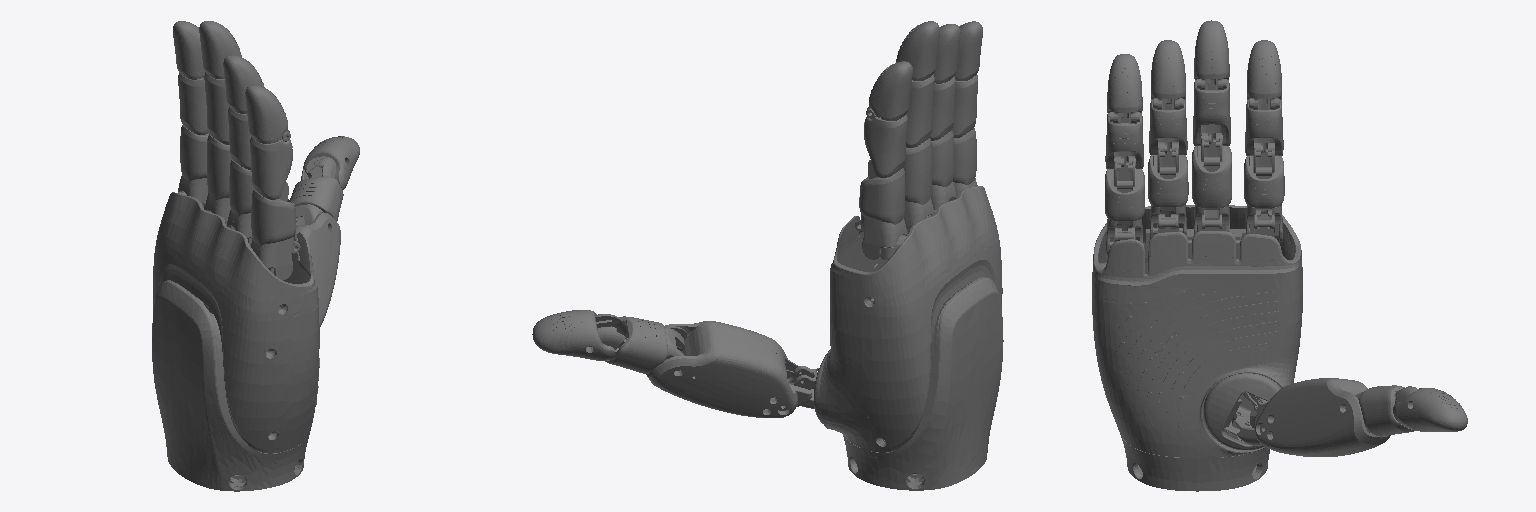
The robot description file, URDF, robot "omnihand":
<?xml version="1.0" ?>
<!-- =================================================================================== -->
<!-- |    This document was autogenerated by xacro from xacro/omnihand_pro_right.xacro | -->
<!-- |    EDITING THIS FILE BY HAND IS NOT RECOMMENDED                                 | -->
<!-- =================================================================================== -->
<robot name="omnihand">
  <material name="black">
    <color rgba="0.5 0.5 0.5 1.0"/>
  </material>
  <link name="hand_base_link">
    <visual>
      <origin rpy="0 0 0" xyz="0 0 0"/>
      <geometry>
        <mesh filename="meshes/r_hand_base_link.STL"/>
      </geometry>
      <material name="black"/>
    </visual>
    <inertial>
      <origin rpy="0 0 0" xyz="-0.00425607657857528 -0.000984907743219104 0.0569954669646572"/>
      <mass value="0.831592534870634"/>
      <inertia ixx="0.00130295787397277" ixy="-1.00395530019145e-06" ixz="-2.62221439754335e-05" iyy="0.000759187526142393" iyz="2.944807671301e-05" izz="0.000650439149629946"/>
    </inertial>
    <collision>
      <origin rpy="0 0 0" xyz="0 0 0.005"/>
      <geometry>
        <cylinder length="0.01" radius="0.032"/>
      </geometry>
    </collision>
    <collision>
      <origin rpy="0 0 0" xyz="0 0 0.057"/>
      <geometry>
        <box size="0.05 0.09 0.09"/>
      </geometry>
    </collision>
  </link>
  <!-- thumb  -->
  <link name="thumb_metacarpals_base1">
    <visual>
      <origin rpy="0 0 0" xyz="0 0 0"/>
      <geometry>
        <mesh filename="meshes/r_thumb_metacarpals_base1.STL"/>
      </geometry>
      <material name="black"/>
    </visual>
    <inertial>
      <origin rpy="0 0 0" xyz="0.0238985392698507 8.492755494241e-05 0.00143588019194235"/>
      <mass value="0.0487218724123021"/>
      <inertia ixx="1.16014813613108e-05" ixy="-1.23718071545455e-07" ixz="-3.36389573955908e-07" iyy="6.59632610273689e-06" iyz="-2.95789245057348e-07" izz="6.64077304903063e-06"/>
    </inertial>
  </link>
  <joint name="thumb_roll_joint" type="revolute">
    <origin rpy="-2.0246 0 0" xyz="-0.00148 0.022278 0.04025"/>
    <parent link="hand_base_link"/>
    <child link="thumb_metacarpals_base1"/>
    <axis xyz="1 0 0"/>
    <limit effort="0.134" lower="0" upper="0.66" velocity="2.38"/>
  </joint>
  <link name="thumb_metacarpals_base2">
    <visual>
      <origin rpy="0 0 0" xyz="0 0 0"/>
      <geometry>
        <mesh filename="meshes/r_thumb_metacarpals_base2.STL"/>
      </geometry>
      <material name="black"/>
    </visual>
    <inertial>
      <origin rpy="0 0 0" xyz="0.00144112186551029 -0.00076971553695547 0.0110530851904386"/>
      <mass value="0.00527730022012764"/>
      <inertia ixx="5.13938107714071e-07" ixy="2.10724699229959e-09" ixz="1.0099134807133e-08" iyy="3.23678037229255e-07" iyz="-6.91586588373309e-08" izz="2.43364847603047e-07"/>
    </inertial>
    <collision>
      <origin rpy="0 0 0.9" xyz="0 0 0"/>
      <geometry>
        <box size="0.035 0.006 0.02"/>
      </geometry>
    </collision>
  </link>
  <joint name="thumb_abad_joint" type="revolute">
    <origin rpy="0 0.95993 0" xyz="0.029071 0 0.0033014"/>
    <parent link="thumb_metacarpals_base1"/>
    <child link="thumb_metacarpals_base2"/>
    <axis xyz="0 -1 0"/>
    <limit effort="0.317" lower="-1.22" upper="0" velocity="2.33"/>
  </joint>
  <link name="thumb_metacarpals">
    <visual>
      <origin rpy="0 0 0" xyz="0 0 0"/>
      <geometry>
        <mesh filename="meshes/r_thumb_metacarpals.STL"/>
      </geometry>
      <material name="black"/>
    </visual>
    <inertial>
      <origin rpy="0 0 0" xyz="0.00248919792890584 0.000126945293118824 0.0270125022282254"/>
      <mass value="0.0238744814807847"/>
      <inertia ixx="9.14065262802198e-06" ixy="1.29455343848178e-08" ixz="1.28925259059347e-07" iyy="1.13640026182741e-05" iyz="-1.59529488365259e-08" izz="2.86247043401986e-06"/>
    </inertial>
    <collision>
      <origin rpy="0 1.57 0" xyz="0.005 0 0.03"/>
      <geometry>
        <box size="0.064 0.023 0.03"/>
      </geometry>
    </collision>
  </link>
  <joint name="thumb_mcp_joint" type="revolute">
    <origin rpy="0 0.66452 -1.5708" xyz="0.0016774 -0.0068611 0.022935"/>
    <parent link="thumb_metacarpals_base2"/>
    <child link="thumb_metacarpals"/>
    <axis xyz="0 -1 0"/>
    <limit effort="0.8" lower="-0.85" upper="0" velocity="1.35"/>
  </joint>
  <link name="thumb_proximal">
    <visual>
      <origin rpy="0 0 0" xyz="0 0 0"/>
      <geometry>
        <mesh filename="meshes/r_thumb_proximal.STL"/>
      </geometry>
      <material name="black"/>
    </visual>
    <inertial>
      <origin rpy="0 0 0" xyz="-0.00238172899603142 0.000356731641777103 0.0132495532127846"/>
      <mass value="0.015089750823072"/>
      <inertia ixx="1.307652825223e-06" ixy="2.30842431261842e-09" ixz="1.78861814916216e-07" iyy="1.76921581769367e-06" iyz="1.30568351519278e-08" izz="8.42951187578533e-07"/>
    </inertial>
    <collision>
      <origin rpy="0 0 0" xyz="0 0.002 0.02"/>
      <geometry>
        <cylinder length="0.02" radius="0.01"/>
      </geometry>
    </collision>
  </link>
  <joint name="thumb_pip_joint" type="revolute">
    <origin rpy="0 0 0" xyz="0.0067768 0 0.05582"/>
    <parent link="thumb_metacarpals"/>
    <child link="thumb_proximal"/>
    <axis xyz="0 -1 0"/>
    <limit effort="0.92" lower="-1.29" upper="0" velocity="1.87"/>
  </joint>
  <link name="thumb_distal">
    <visual>
      <origin rpy="0 0 0" xyz="0 0 0"/>
      <geometry>
        <mesh filename="meshes/r_thumb_distal.STL"/>
      </geometry>
      <material name="black"/>
    </visual>
    <inertial>
      <origin rpy="0 0 0" xyz="-0.00103086462486497 -4.35579912222428e-07 0.0111718009868479"/>
      <mass value="0.0166245749238282"/>
      <inertia ixx="1.55367650349561e-06" ixy="-6.28496740782693e-11" ixz="-2.68802086888384e-07" iyy="1.43025255900936e-06" iyz="-3.60153740856451e-11" izz="8.87371852515915e-07"/>
    </inertial>
    <collision>
      <origin rpy="0 0 0" xyz="0 0 0.015"/>
      <geometry>
        <cylinder length="0.03" radius="0.01"/>
      </geometry>
    </collision>
  </link>
  <joint name="thumb_dip_joint" type="revolute">
    <origin rpy="0 0 0" xyz=" -0.0025791  0 0.034516"/>
    <parent link="thumb_proximal"/>
    <child link="thumb_distal"/>
    <axis xyz="0 -1 0"/>
    <limit effort="0.92" lower="-1.31" upper="0" velocity="1.9"/>
    <mimic joint="thumb_pip_joint" multiplier="0.8068" offset="0"/>
  </joint>
  <link name="thumb_distal_vertices_virtual_coordinates">
    <collision>
      <origin rpy="0 0 0" xyz="0 0 0"/>
      <geometry>
        <sphere radius="0.001"/>
      </geometry>
    </collision>
  </link>
  <joint name="thumb_tips" type="fixed">
    <origin rpy="0 0 0" xyz="-0.01107 0 0.02778"/>
    <parent link="thumb_distal"/>
    <child link="thumb_distal_vertices_virtual_coordinates"/>
    <axis xyz="0 0 0"/>
  </joint>
  <!-- index  -->
  <link name="index_metacarpals">
    <visual>
      <origin rpy="0 0 0" xyz="0 0 0"/>
      <geometry>
        <mesh filename="meshes/index_metacarpals.STL"/>
      </geometry>
      <material name="black"/>
    </visual>
    <inertial>
      <origin rpy="0 0 0" xyz="0.00904689264775126 2.37541539321873e-06 0.00296439795566343"/>
      <mass value="0.00769184155607912"/>
      <inertia ixx="3.12253146637431e-07" ixy="-8.36823610669688e-11" ixz="3.47679984094986e-08" iyy="1.96445680122249e-07" iyz="-6.80359270914641e-11" izz="2.98132181313685e-07"/>
    </inertial>
  </link>
  <joint name="index_abad_joint" type="revolute">
    <origin rpy="0 0 0" xyz="-0.0134 0.030778 0.11936"/>
    <parent link="hand_base_link"/>
    <child link="index_metacarpals"/>
    <axis xyz="1 0 0"/>
    <limit effort="1.001" lower="-0.26" upper="0.26" velocity="2.16"/>
  </joint>
  <link name="index_proximal">
    <visual>
      <origin rpy="0 0 0" xyz="0 0 0"/>
      <geometry>
        <mesh filename="meshes/index_proximal.STL"/>
      </geometry>
      <material name="black"/>
    </visual>
    <inertial>
      <origin rpy="0 0 0" xyz="-0.00199825952289442 2.64457175807586e-05 0.0201667389503313"/>
      <mass value="0.00942126624293676"/>
      <inertia ixx="1.22975708566729e-06" ixy="-2.28040809755226e-10" ixz="-5.99595621936577e-08" iyy="1.34371119474184e-06" iyz="7.2313211083901e-10" izz="3.61297485727319e-07"/>
    </inertial>
    <collision>
      <origin rpy="0 0 0" xyz="-0.002 0 0.016"/>
      <geometry>
        <cylinder length="0.038" radius="0.01"/>
      </geometry>
    </collision>
  </link>
  <joint name="index_mcp_joint" type="revolute">
    <origin rpy="0 0 0" xyz="0.01357 0 0"/>
    <parent link="index_metacarpals"/>
    <child link="index_proximal"/>
    <axis xyz="0 1 0"/>
    <limit effort="0.42" lower="0" upper="1.33" velocity="2.22"/>
  </joint>
  <link name="index_middle">
    <visual>
      <origin rpy="0 0 0" xyz="0 0 0"/>
      <geometry>
        <mesh filename="meshes/index_middle.STL"/>
      </geometry>
      <material name="black"/>
    </visual>
    <inertial>
      <origin rpy="0 0 0" xyz="0.000915277748706721 2.44819798689566e-05 0.0134565632396798"/>
      <mass value="0.00438956668936868"/>
      <inertia ixx="3.90192390925837e-07" ixy="1.18711764286958e-10" ixz="3.07110243989117e-08" iyy="3.39842342249121e-07" iyz="-4.52776521802555e-11" izz="2.34598309279793e-07"/>
    </inertial>
    <collision>
      <origin rpy="0 0 0" xyz="0.001 0 0.015"/>
      <geometry>
        <cylinder length="0.022" radius="0.01"/>
      </geometry>
    </collision>
  </link>
  <joint name="index_pip_joint" type="revolute">
    <origin rpy="0 0 0" xyz="-0.0044047 0 0.039781"/>
    <parent link="index_proximal"/>
    <child link="index_middle"/>
    <axis xyz="0 1 0"/>
    <limit effort="0.216" lower="0" upper="1.48" velocity="2.49"/>
  </joint>
  <link name="index_distal">
    <visual>
      <origin rpy="0 0 0" xyz="0 0 0"/>
      <geometry>
        <mesh filename="meshes/index_distal.STL"/>
      </geometry>
      <material name="black"/>
    </visual>
    <inertial>
      <origin rpy="0 0 0" xyz="-0.00788115735969092 1.62686611911711e-05 0.00734085069241115"/>
      <mass value="0.00919575167024177"/>
      <inertia ixx="6.1598320028546e-07" ixy="-4.87748545899042e-10" ixz="-1.46101909693797e-07" iyy="6.32146337383652e-07" iyz="1.82637544331928e-09" izz="3.00226734906959e-07"/>
    </inertial>
    <collision>
      <origin rpy="0 0 0" xyz="-0.006 0 0.013"/>
      <geometry>
        <cylinder length="0.02" radius="0.01"/>
      </geometry>
    </collision>
  </link>
  <joint name="index_dip_joint" type="revolute">
    <origin rpy="0 0 0" xyz=" 0.0058514  0 0.026478"/>
    <parent link="index_middle"/>
    <child link="index_distal"/>
    <axis xyz="0 1 0"/>
    <limit effort="0.216" lower="0" upper="1.31" velocity="2.85"/>
    <mimic joint="index_pip_joint" multiplier="1.0362" offset="0"/>
  </joint>
  <link name="index_distal_vertices_virtual_coordinates">
    <collision>
      <origin rpy="0 0 0" xyz="0 0 0"/>
      <geometry>
        <sphere radius="0.001"/>
      </geometry>
    </collision>
  </link>
  <joint name="index_tip" type="fixed">
    <origin rpy="0 0 0" xyz="-0.01465 0 0.02533"/>
    <parent link="index_distal"/>
    <child link="index_distal_vertices_virtual_coordinates"/>
  </joint>
  <!-- middle  -->
  <link name="middle_metacarpals">
    <visual>
      <origin rpy="0 0 0" xyz="0 0 0"/>
      <geometry>
        <mesh filename="meshes/middle_metacarpals.STL"/>
      </geometry>
      <material name="black"/>
    </visual>
    <inertial>
      <origin rpy="0 0 0" xyz="0.00886137366293534 3.75661207696609e-09 0.00266832955690114"/>
      <mass value="0.00637102949978218"/>
      <inertia ixx="2.41627954466445e-07" ixy="-2.52962153485538e-12" ixz="2.44913153285072e-08" iyy="1.58576266250976e-07" iyz="-5.93368216213693e-13" izz="2.58849212903404e-07"/>
    </inertial>
  </link>
  <joint name="middle_abad_joint" type="revolute">
    <origin rpy="0 0 0" xyz="-0.0134 0.0066607 0.11936"/>
    <parent link="hand_base_link"/>
    <child link="middle_metacarpals"/>
    <axis xyz="1 0 0"/>
    <limit effort="1.031" lower="-0.26" upper="0.26" velocity="2.16"/>
  </joint>
  <link name="middle_proximal">
    <visual>
      <origin rpy="0 0 0" xyz="0 0 0"/>
      <geometry>
        <mesh filename="meshes/middle_proximal.STL"/>
      </geometry>
      <material name="black"/>
    </visual>
    <inertial>
      <origin rpy="0 0 0" xyz="-0.00165476847526829 2.20979993567627e-06 0.0225332391057417"/>
      <mass value="0.0105445601098368"/>
      <inertia ixx="1.73042184201086e-06" ixy="-2.04331701697306e-10" ixz="-5.90285580204209e-08" iyy="1.85661332749592e-06" iyz="1.32105746258306e-09" izz="4.2136357029816e-07"/>
    </inertial>
    <collision>
      <origin rpy="0 0 0" xyz="-0.002 0 0.016"/>
      <geometry>
        <cylinder length="0.04" radius="0.01"/>
      </geometry>
    </collision>
  </link>
  <joint name="middle_mcp_joint" type="revolute">
    <origin rpy="0 0 0" xyz="0.01337 0 0"/>
    <parent link="middle_metacarpals"/>
    <child link="middle_proximal"/>
    <axis xyz="0 1 0"/>
    <limit effort="0.413" lower="0" upper="1.33" velocity="2.22"/>
  </joint>
  <link name="middle_middle">
    <visual>
      <origin rpy="0 0 0" xyz="0 0 0"/>
      <geometry>
        <mesh filename="meshes/middle_middle.STL"/>
      </geometry>
      <material name="black"/>
    </visual>
    <inertial>
      <origin rpy="0 0 0" xyz="0.000830746222013005 -4.34482098339573e-05 0.0161492835641447"/>
      <mass value="0.00495728561619528"/>
      <inertia ixx="5.48440909443586e-07" ixy="-6.39554522791554e-11" ixz="4.33803111439142e-08" iyy="4.91459567907306e-07" iyz="6.02486738632266e-11" izz="2.62953076584762e-07"/>
    </inertial>
    <collision>
      <origin rpy="0 0 0" xyz="0.001 0 0.014"/>
      <geometry>
        <cylinder length="0.028" radius="0.01"/>
      </geometry>
    </collision>
  </link>
  <joint name="middle_pip_joint" type="revolute">
    <origin rpy="0 0 0" xyz="-0.0040396 0 0.044837"/>
    <parent link="middle_proximal"/>
    <child link="middle_middle"/>
    <axis xyz="0 1 0"/>
    <limit effort="0.136" lower="0" upper="1.71" velocity="2.16"/>
  </joint>
  <link name="middle_distal">
    <visual>
      <origin rpy="0 0 0" xyz="0 0 0"/>
      <geometry>
        <mesh filename="meshes/middle_distal.STL"/>
      </geometry>
      <material name="black"/>
    </visual>
    <inertial>
      <origin rpy="0 0 0" xyz="-0.00783321210053064 -0.000103726115592395 0.00739196062285884"/>
      <mass value="0.00919573396837047"/>
      <inertia ixx="6.17868791705364e-07" ixy="-4.75945812309197e-10" ixz="-1.44033848644933e-07" iyy="6.32143569461496e-07" iyz="1.83019369609838e-09" izz="2.98337914527375e-07"/>
    </inertial>
    <collision>
      <origin rpy="0 0 0" xyz="-0.006 0 0.014"/>
      <geometry>
        <cylinder length="0.018" radius="0.01"/>
      </geometry>
    </collision>
  </link>
  <joint name="middle_dip_joint" type="revolute">
    <origin rpy="0 0 0" xyz=" 0.005529  0 0.031336"/>
    <parent link="middle_middle"/>
    <child link="middle_distal"/>
    <axis xyz="0 1 0"/>
    <limit effort="0.136" lower="0" upper="1.31" velocity="2.48"/>
    <mimic joint="middle_pip_joint" multiplier="1.0924" offset="0"/>
  </joint>
  <link name="middle_distal_vertices_virtual_coordinates">
    <collision>
      <origin rpy="0 0 0" xyz="0 0 0"/>
      <geometry>
        <sphere radius="0.001"/>
      </geometry>
    </collision>
  </link>
  <joint name="middle_tip" type="fixed">
    <origin rpy="0 0 0" xyz="-0.01465 0 0.02533"/>
    <parent link="middle_distal"/>
    <child link="middle_distal_vertices_virtual_coordinates"/>
  </joint>
  <!-- ring  -->
  <link name="ring_proximal">
    <visual>
      <origin rpy="0 0 0" xyz="0 0 0"/>
      <geometry>
        <mesh filename="meshes/ring_proximal.STL"/>
      </geometry>
      <material name="black"/>
    </visual>
    <inertial>
      <origin rpy="0 0 0" xyz="-0.00161802170047008 -2.08220096852268e-05 0.0212342177709951"/>
      <mass value="0.0047795328266326"/>
      <inertia ixx="5.43923252152409e-07" ixy="-8.48896522637981e-11" ixz="2.4689478865027e-08" iyy="5.41640127982143e-07" iyz="-2.5218290048469e-10" izz="1.76501748993068e-07"/>
    </inertial>
    <collision>
      <origin rpy="0 0 0" xyz="-0.002 0 0.014"/>
      <geometry>
        <cylinder length="0.035" radius="0.01"/>
      </geometry>
    </collision>
  </link>
  <joint name="ring_mcp_joint" type="revolute">
    <origin rpy="0.0 0.0 0.0" xyz="0.0001598 -0.013518 0.11972"/>
    <parent link="hand_base_link"/>
    <child link="ring_proximal"/>
    <axis xyz="0 1 0"/>
    <limit effort="0.444" lower="0" upper="1.38" velocity="2.54"/>
  </joint>
  <link name="ring_middle">
    <visual>
      <origin rpy="0 0 0" xyz="0 0 0"/>
      <geometry>
        <mesh filename="meshes/ring_middle.STL"/>
      </geometry>
      <material name="black"/>
    </visual>
    <inertial>
      <origin rpy="0 0 0" xyz="0.000940340714750308 -1.66667751162405e-05 0.0134216382614548"/>
      <mass value="0.0047795328266326"/>
      <inertia ixx="2.25767846748625e-07" ixy="4.61360531413437e-12" ixz="2.32301202429608e-09" iyy="1.61875511170868e-07" iyz="-9.05860342855209e-12" izz="1.17700137222491e-07"/>
    </inertial>
    <collision>
      <origin rpy="0 0 0" xyz="0.0015 0 0.014"/>
      <geometry>
        <cylinder length="0.028" radius="0.01"/>
      </geometry>
    </collision>
  </link>
  <joint name="ring_pip_joint" type="revolute">
    <origin rpy="0 0 0" xyz="-0.0039371 0 0.03983"/>
    <parent link="ring_proximal"/>
    <child link="ring_middle"/>
    <axis xyz="0 1 0"/>
    <limit effort="0.444" lower="0" upper="1.57" velocity="2.29"/>
    <mimic joint="ring_mcp_joint" multiplier="0.877" offset="0"/>
  </joint>
  <link name="ring_distal">
    <visual>
      <origin rpy="0 0 0" xyz="0 0 0"/>
      <geometry>
        <mesh filename="meshes/ring_distal.STL"/>
      </geometry>
      <material name="black"/>
    </visual>
    <inertial>
      <origin rpy="0 0 0" xyz="-0.0077943915041099 2.51275100347781e-05 0.00743291370409035"/>
      <mass value="0.00919575186910556"/>
      <inertia ixx="6.19370856718727e-07" ixy="-4.661874813998e-10" ixz="-1.42352843928183e-07" iyy="6.32145627609476e-07" iyz="1.83190371320788e-09" izz="2.9683840460863e-07"/>
    </inertial>
    <collision>
      <origin rpy="0 0 0" xyz="-0.006 0 0.014"/>
      <geometry>
        <cylinder length="0.018" radius="0.01"/>
      </geometry>
    </collision>
  </link>
  <joint name="ring_dip_joint" type="revolute">
    <origin rpy="0 0 0" xyz=" 0.006162  0 0.026407"/>
    <parent link="ring_middle"/>
    <child link="ring_distal"/>
    <axis xyz="0 1 0"/>
    <limit effort="0.444" lower="0" upper="1.31" velocity="2.62"/>
    <mimic joint="ring_mcp_joint" multiplier="0.9394" offset="0"/>
  </joint>
  <link name="ring_distal_vertices_virtual_coordinates">
    <collision>
      <origin rpy="0 0 0" xyz="0 0 0"/>
      <geometry>
        <sphere radius="0.001"/>
      </geometry>
    </collision>
  </link>
  <joint name="ring_tip_joint" type="fixed">
    <origin rpy="0 0 0" xyz="-0.01465 0 0.02533"/>
    <parent link="ring_distal"/>
    <child link="ring_distal_vertices_virtual_coordinates"/>
  </joint>
  <!-- ring  -->
  <link name="pinky_proximal">
    <visual>
      <origin rpy="0 0 0" xyz="0 0 0"/>
      <geometry>
        <mesh filename="meshes/ring_proximal.STL"/>
      </geometry>
      <material name="black"/>
    </visual>
    <inertial>
      <origin rpy="0 0 0" xyz="-0.00161802170047008 -2.08220096852268e-05 0.0212342177709951"/>
      <mass value="0.0047795328266326"/>
      <inertia ixx="5.43923252152409e-07" ixy="-8.48896522637981e-11" ixz="2.4689478865027e-08" iyy="5.41640127982143e-07" iyz="-2.5218290048469e-10" izz="1.76501748993068e-07"/>
    </inertial>
    <collision>
      <origin rpy="0 0 0" xyz="-0.002 0 0.014"/>
      <geometry>
        <cylinder length="0.035" radius="0.01"/>
      </geometry>
    </collision>
  </link>
  <joint name="pinky_mcp_joint" type="revolute">
    <origin rpy="0.0 0.0 0.0" xyz="0.0001598 -0.033576 0.11272"/>
    <parent link="hand_base_link"/>
    <child link="pinky_proximal"/>
    <axis xyz="0 1 0"/>
    <limit effort="0.444" lower="0" upper="1.38" velocity="2.54"/>
  </joint>
  <link name="pinky_middle">
    <visual>
      <origin rpy="0 0 0" xyz="0 0 0"/>
      <geometry>
        <mesh filename="meshes/ring_middle.STL"/>
      </geometry>
      <material name="black"/>
    </visual>
    <inertial>
      <origin rpy="0 0 0" xyz="0.000940340714750308 -1.66667751162405e-05 0.0134216382614548"/>
      <mass value="0.0047795328266326"/>
      <inertia ixx="2.25767846748625e-07" ixy="4.61360531413437e-12" ixz="2.32301202429608e-09" iyy="1.61875511170868e-07" iyz="-9.05860342855209e-12" izz="1.17700137222491e-07"/>
    </inertial>
    <collision>
      <origin rpy="0 0 0" xyz="0.0015 0 0.014"/>
      <geometry>
        <cylinder length="0.028" radius="0.01"/>
      </geometry>
    </collision>
  </link>
  <joint name="pinky_pip_joint" type="revolute">
    <origin rpy="0 0 0" xyz="-0.0039371 0 0.03983"/>
    <parent link="pinky_proximal"/>
    <child link="pinky_middle"/>
    <axis xyz="0 1 0"/>
    <limit effort="0.444" lower="0" upper="1.57" velocity="2.29"/>
    <mimic joint="pinky_mcp_joint" multiplier="0.877" offset="0"/>
  </joint>
  <link name="pinky_distal">
    <visual>
      <origin rpy="0 0 0" xyz="0 0 0"/>
      <geometry>
        <mesh filename="meshes/ring_distal.STL"/>
      </geometry>
      <material name="black"/>
    </visual>
    <inertial>
      <origin rpy="0 0 0" xyz="-0.0077943915041099 2.51275100347781e-05 0.00743291370409035"/>
      <mass value="0.00919575186910556"/>
      <inertia ixx="6.19370856718727e-07" ixy="-4.661874813998e-10" ixz="-1.42352843928183e-07" iyy="6.32145627609476e-07" iyz="1.83190371320788e-09" izz="2.9683840460863e-07"/>
    </inertial>
    <collision>
      <origin rpy="0 0 0" xyz="-0.006 0 0.014"/>
      <geometry>
        <cylinder length="0.018" radius="0.01"/>
      </geometry>
    </collision>
  </link>
  <joint name="pinky_dip_joint" type="revolute">
    <origin rpy="0 0 0" xyz=" 0.006162  0 0.026407"/>
    <parent link="pinky_middle"/>
    <child link="pinky_distal"/>
    <axis xyz="0 1 0"/>
    <limit effort="0.444" lower="0" upper="1.31" velocity="2.62"/>
    <mimic joint="pinky_mcp_joint" multiplier="0.9394" offset="0"/>
  </joint>
  <link name="pinky_distal_vertices_virtual_coordinates">
    <collision>
      <origin rpy="0 0 0" xyz="0 0 0"/>
      <geometry>
        <sphere radius="0.001"/>
      </geometry>
    </collision>
  </link>
  <joint name="pinky_tip_joint" type="fixed">
    <origin rpy="0 0 0" xyz="-0.01465 0 0.02533"/>
    <parent link="pinky_distal"/>
    <child link="pinky_distal_vertices_virtual_coordinates"/>
  </joint>
</robot>

--- Render facts (derived) ---
3 views of the same robot in one strip: view 1: azimuth 30°, elevation 25°; view 2: azimuth 150°, elevation 25°; view 3: azimuth 270°, elevation 25° (orthographic).
Robot: omnihand — 25 links, 24 joints (19 revolute, 5 fixed); root link hand_base_link; default pose: every joint at zero.
Links seen in each view (by area): view 1: hand_base_link, pinky_proximal, thumb_metacarpals, pinky_middle, thumb_distal, pinky_distal, thumb_proximal, index_proximal, middle_proximal, middle_distal, ring_proximal, index_distal (+4 smaller); view 2: hand_base_link, thumb_metacarpals, thumb_distal, index_proximal, thumb_proximal, index_middle, middle_proximal, index_distal, middle_distal, middle_middle, ring_proximal, pinky_proximal (+5 smaller); view 3: hand_base_link, thumb_metacarpals, middle_proximal, thumb_metacarpals_base1, ring_proximal, pinky_proximal, index_proximal, thumb_distal, pinky_distal, middle_distal, ring_distal, index_distal (+6 smaller).
Link boxes in pixels (x1,y1,x2,y2): hand_base_link: (152, 191, 319, 491); pinky_proximal: (251, 182, 300, 279); thumb_metacarpals: (296, 213, 340, 326); pinky_middle: (250, 131, 292, 199); thumb_distal: (301, 136, 359, 189); pinky_distal: (245, 85, 289, 143); thumb_proximal: (290, 177, 343, 225); index_proximal: (178, 125, 209, 208); middle_proximal: (204, 135, 234, 229); middle_distal: (199, 21, 241, 78); ring_proximal: (227, 160, 253, 239); index_distal: (173, 21, 204, 79); hand_base_link: (820, 186, 1003, 490); thumb_metacarpals: (646, 321, 811, 417); thumb_distal: (532, 310, 625, 360); index_proximal: (855, 160, 907, 259); thumb_proximal: (605, 316, 684, 373); index_middle: (864, 108, 907, 177); middle_proximal: (903, 138, 934, 232); index_distal: (867, 61, 912, 120); middle_distal: (896, 21, 939, 80); middle_middle: (906, 74, 934, 147); ring_proximal: (931, 130, 956, 209); pinky_proximal: (949, 128, 977, 200); hand_base_link: (1092, 205, 1302, 491); thumb_metacarpals: (1254, 378, 1390, 456); middle_proximal: (1192, 133, 1231, 234); thumb_metacarpals_base1: (1204, 373, 1280, 449); ring_proximal: (1148, 142, 1188, 238); pinky_proximal: (1105, 156, 1144, 254); index_proximal: (1244, 143, 1284, 241); thumb_distal: (1393, 386, 1467, 431); pinky_distal: (1107, 54, 1142, 123); middle_distal: (1194, 20, 1229, 89); ring_distal: (1151, 40, 1185, 109); index_distal: (1247, 40, 1281, 109).
Bounding box of the posed robot: 0.1625 × 0.1736 × 0.2241 m (x, y, z).
Meshes: 17 distinct files referenced, 20 mesh visuals loaded (17 binary STL).